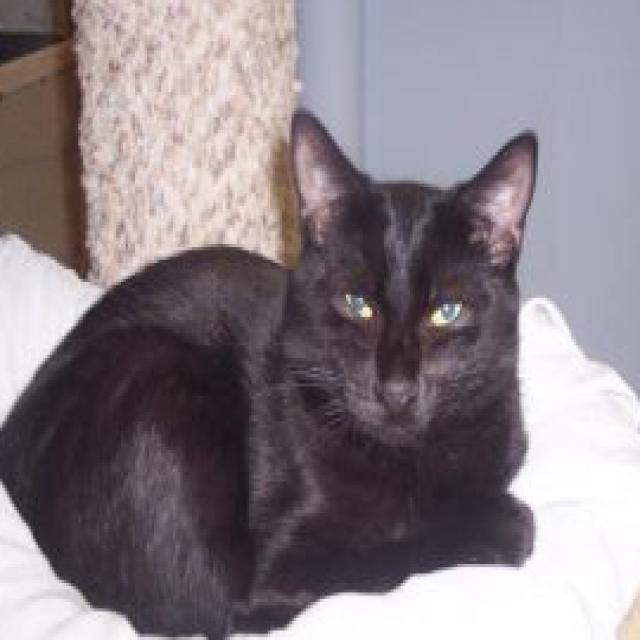Bombay: (0, 98, 543, 640)
